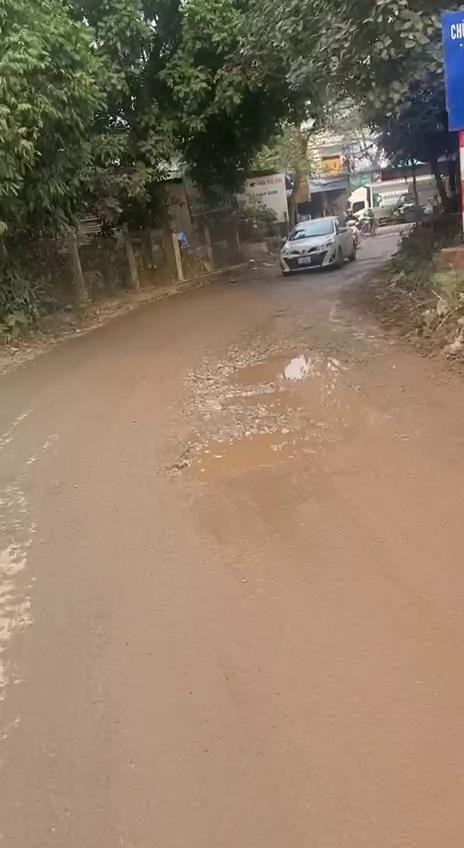pothole: (194, 340, 332, 418), (166, 416, 311, 486)
